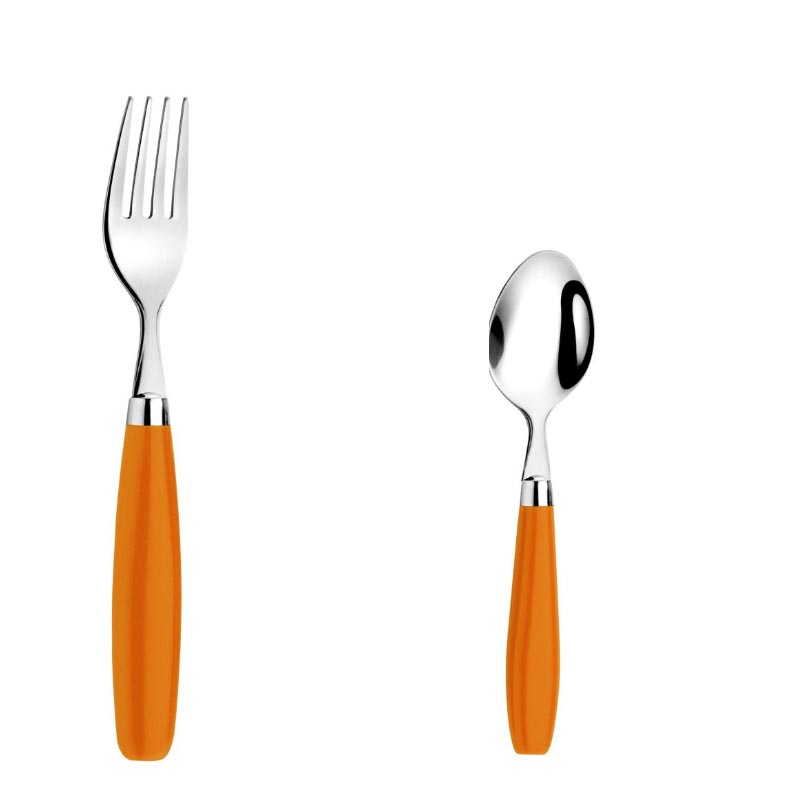Lyzka: (479, 246, 598, 424)
Widelec: (97, 91, 197, 305)
